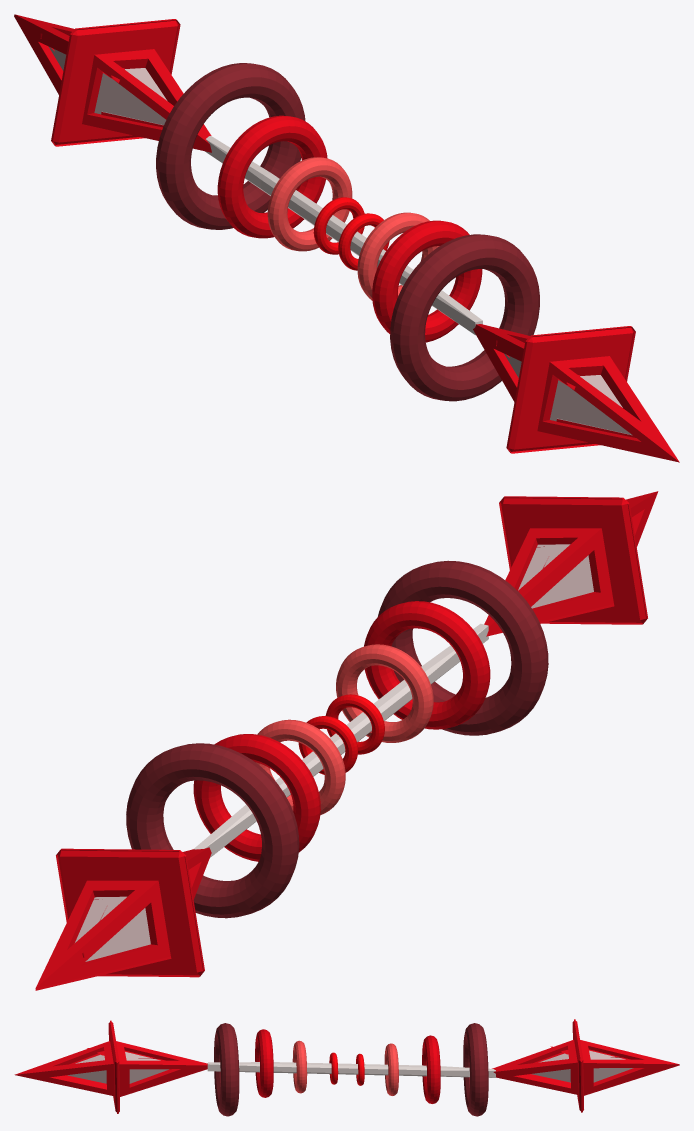
Rendered from weapon1.fbx.
3 renders of one model, top to bottom at view 1: azimuth 30°, elevation 25°; view 2: azimuth 150°, elevation 25°; view 3: azimuth 270°, elevation 25°, orthographic. The views are drawn at different scales.
Parts seen in each view (by area): view 1: Cube.004, Cube.003, Torus.006, Torus.004, Torus.003, Torus.007, Torus.000, Cube.001, Torus.005, Torus.002, Torus.001; view 2: Cube.003, Cube.004, Torus.004, Torus.006, Torus.007, Torus.003, Torus.005, Cube.001, Torus.000, Torus.001, Torus.002; view 3: Cube.004, Cube.003, Cube.001, Torus.006, Torus.004, Torus.007, Torus.003, Torus.005, Torus.000, Torus.001, Torus.002.
Part boxes in pixels (box(x1,y1,x2,y2)): Cube.004: box(473, 324, 679, 462); Cube.003: box(14, 14, 211, 152); Torus.006: box(390, 234, 539, 401); Torus.004: box(156, 63, 305, 229); Torus.003: box(217, 115, 327, 238); Torus.007: box(372, 220, 482, 342); Torus.000: box(267, 157, 352, 251); Cube.001: box(205, 136, 482, 335); Torus.005: box(357, 212, 439, 300); Torus.002: box(313, 197, 364, 254); Torus.001: box(338, 213, 389, 270); Cube.003: box(35, 847, 211, 990); Cube.004: box(484, 491, 658, 636); Torus.004: box(126, 743, 299, 918); Torus.006: box(378, 560, 548, 735); Torus.007: box(364, 601, 490, 729); Torus.003: box(193, 734, 320, 861); Torus.005: box(336, 644, 433, 742); Cube.001: box(194, 623, 488, 857); Torus.000: box(256, 719, 345, 814); Torus.001: box(325, 694, 384, 754); Torus.002: box(298, 716, 357, 774); Cube.004: box(14, 1020, 207, 1113); Cube.003: box(492, 1019, 679, 1112); Cube.001: box(207, 1062, 495, 1077); Torus.006: box(214, 1023, 239, 1116); Torus.004: box(463, 1023, 488, 1116); Torus.007: box(255, 1029, 273, 1097); Torus.003: box(422, 1035, 440, 1103); Torus.005: box(292, 1040, 307, 1093); Torus.000: box(384, 1043, 398, 1095); Torus.001: box(329, 1052, 338, 1084); Torus.002: box(356, 1053, 364, 1085).
Bounding box in the file's own units: 481 × 453 × 3227.
